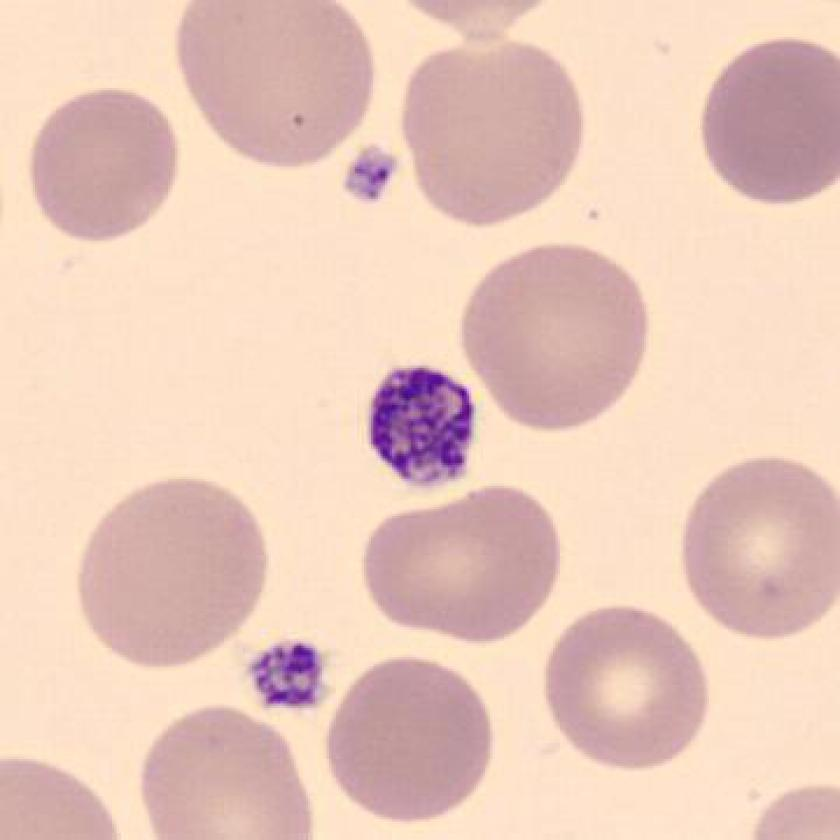platelets: (356, 350, 496, 501), (237, 624, 344, 728)
